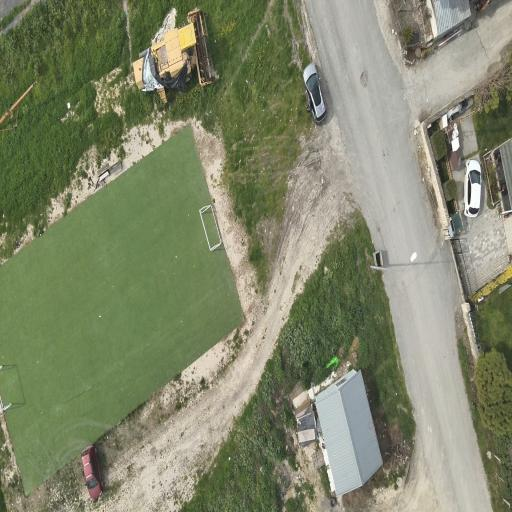car: (303, 64, 326, 123), (80, 445, 102, 499), (464, 160, 481, 217)
harvester: (133, 10, 214, 102)
